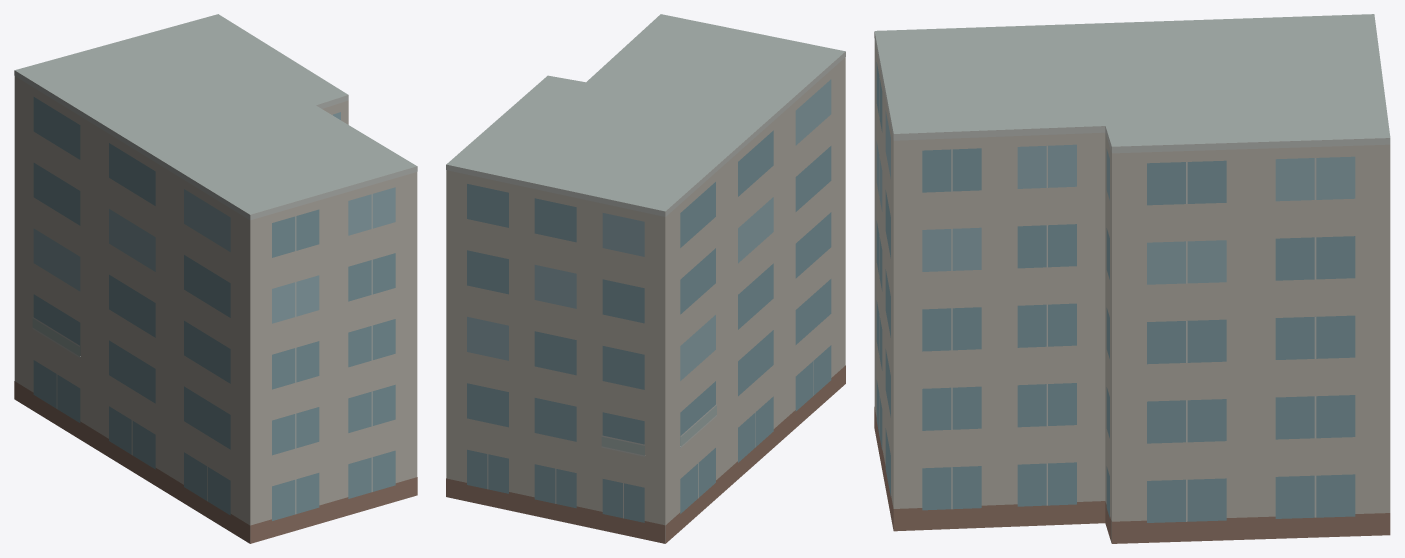
Rendered from survey-upis-32712388.glb.
3 renders of one model, left to right at view 1: azimuth 30°, elevation 25°; view 2: azimuth 150°, elevation 25°; view 3: azimuth 270°, elevation 25°, orthographic. The views are drawn at different scales.
Visible parts, largest first — view 1: survey-upis-32712388.tmp; view 2: survey-upis-32712388.tmp; view 3: survey-upis-32712388.tmp.
Boxes of the visible parts, bbox=[...] form: survey-upis-32712388.tmp: bbox=[14, 14, 417, 543]; survey-upis-32712388.tmp: bbox=[446, 14, 845, 543]; survey-upis-32712388.tmp: bbox=[874, 14, 1390, 543].
Bounding box in the file's own units: 10.4 × 14.5 × 17.08.
